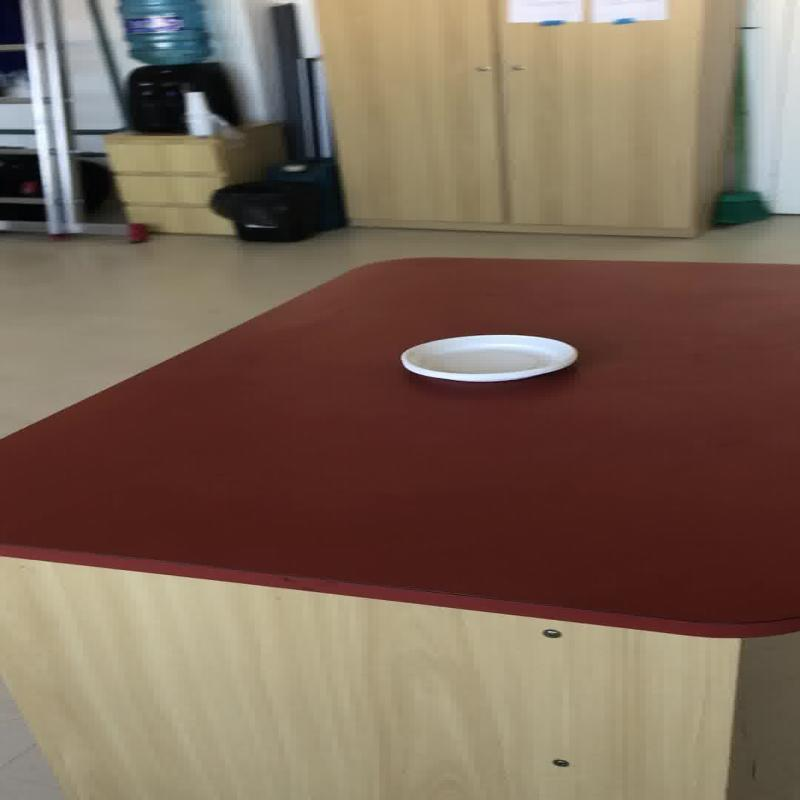plate: (398, 333, 578, 382)
